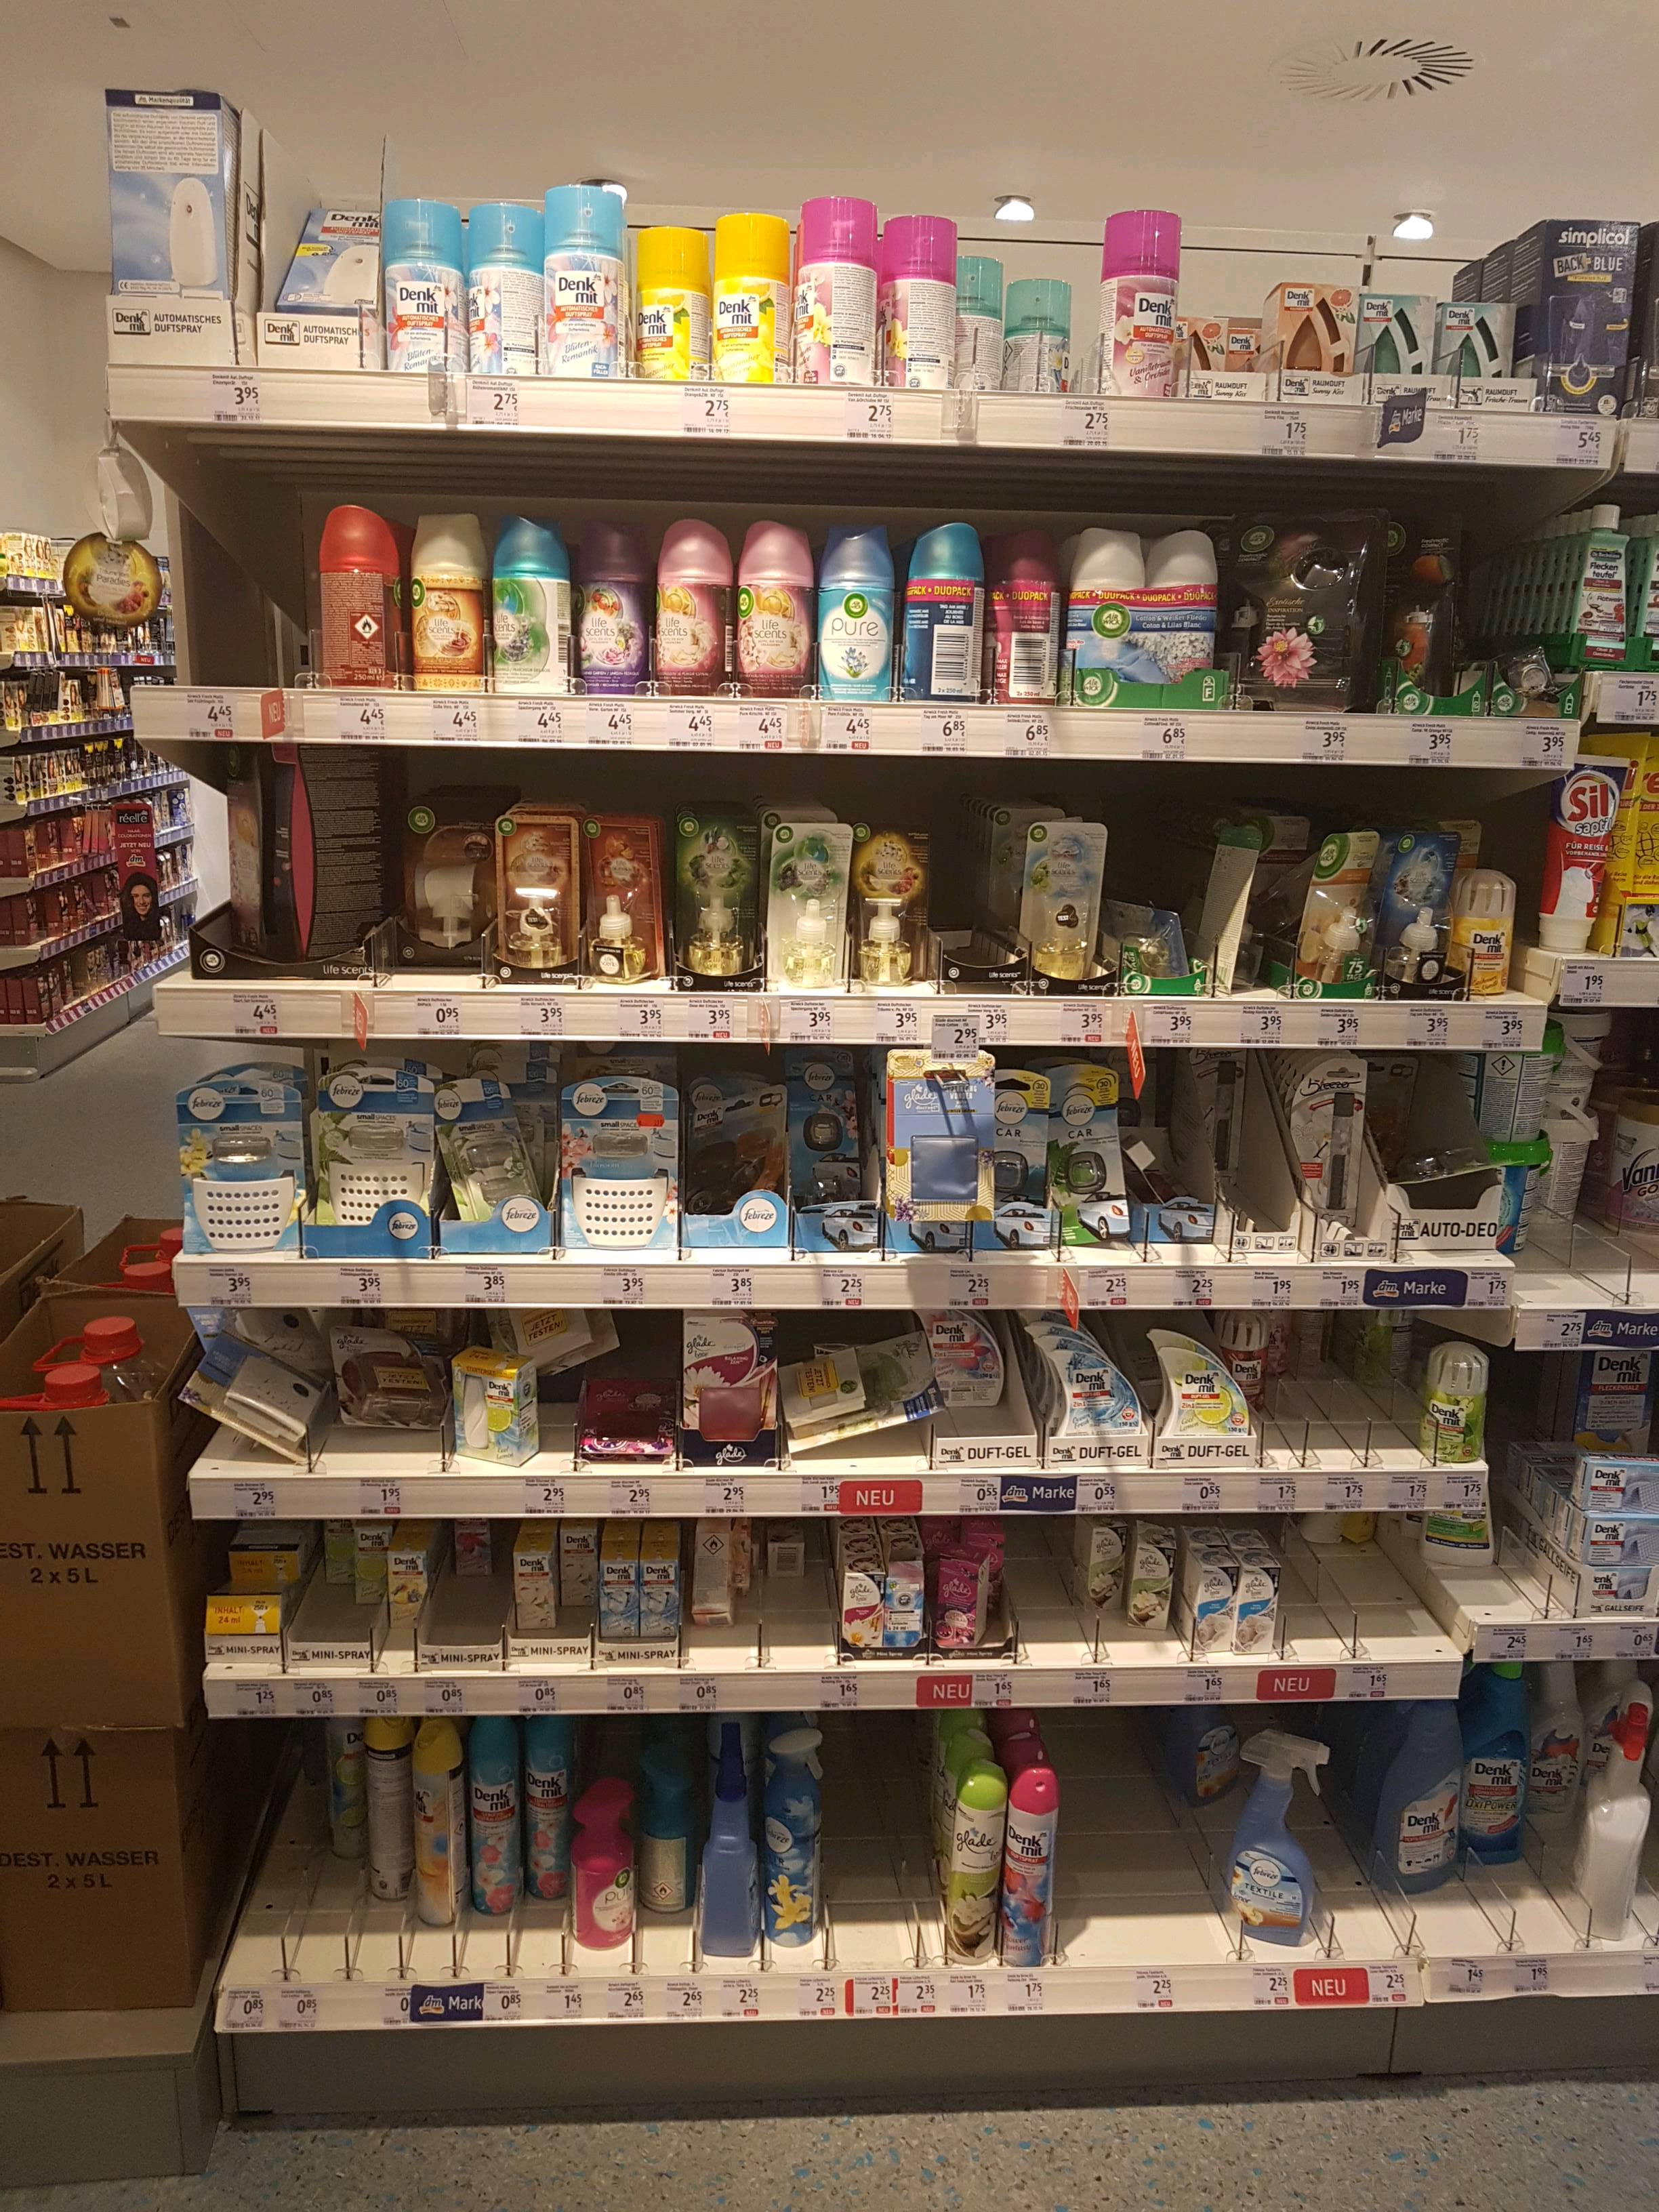Misplacement: (505, 1515, 598, 1665)
Out-of-stock: (1011, 1517, 1100, 1662)
